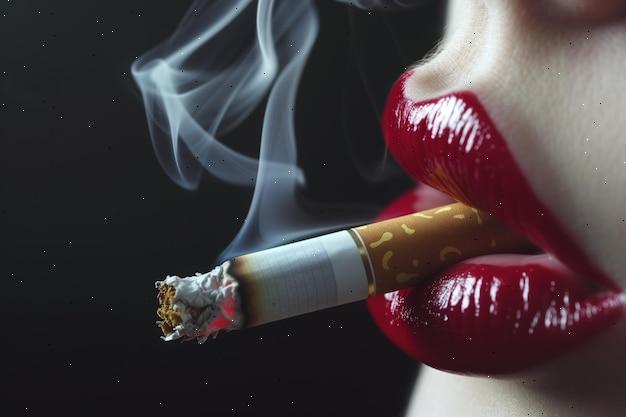cigarette: (156, 203, 536, 341)
